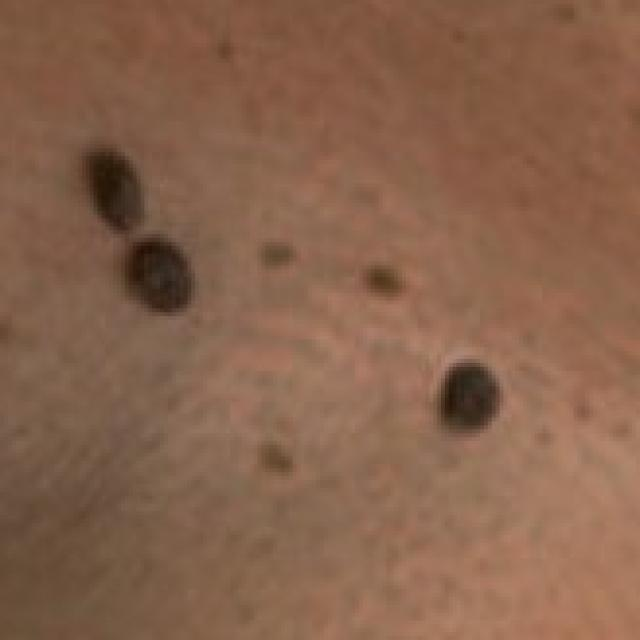wart: (121, 234, 199, 308), (433, 355, 507, 429), (90, 140, 148, 230)
